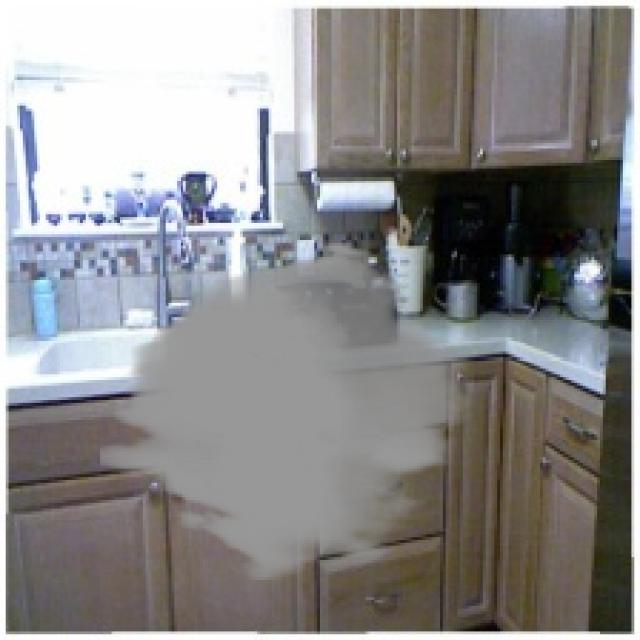smoke: (100, 240, 474, 583)
